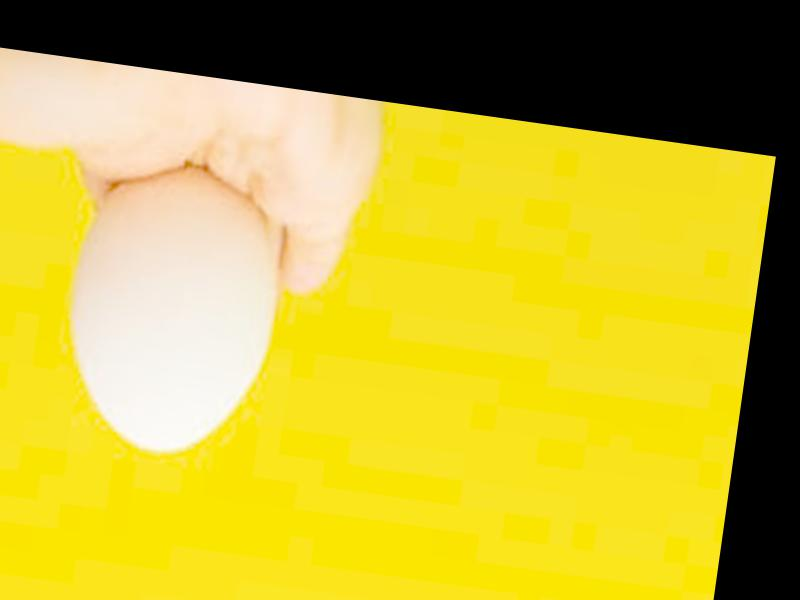Eggs: (60, 157, 290, 466)
